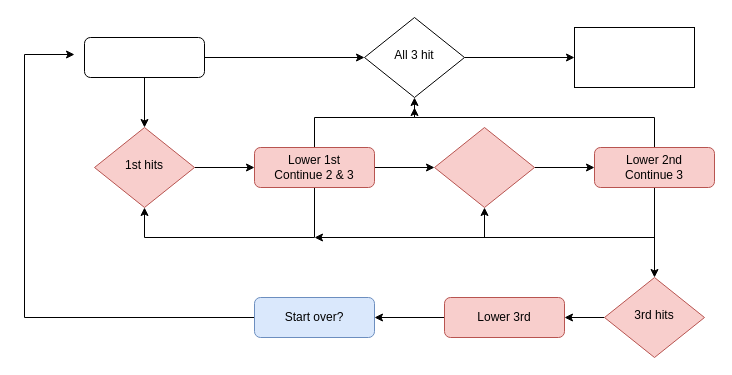
This 732x375 diagram has some shape labels left out. The box of each missing label's shape, as (x1, y1, x2, y2) in pixels:
2nd hits: (434, 126, 534, 208)
All 3 move up: (84, 36, 204, 78)
We Win!: (574, 26, 694, 88)
